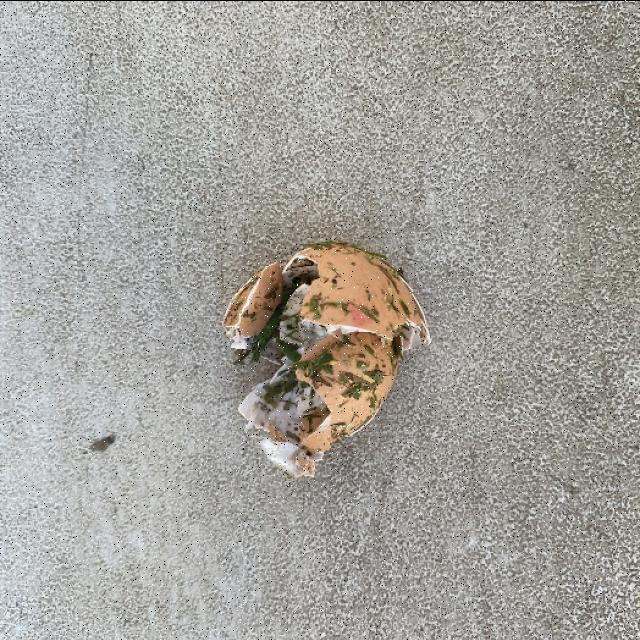organik: (215, 236, 422, 478)
